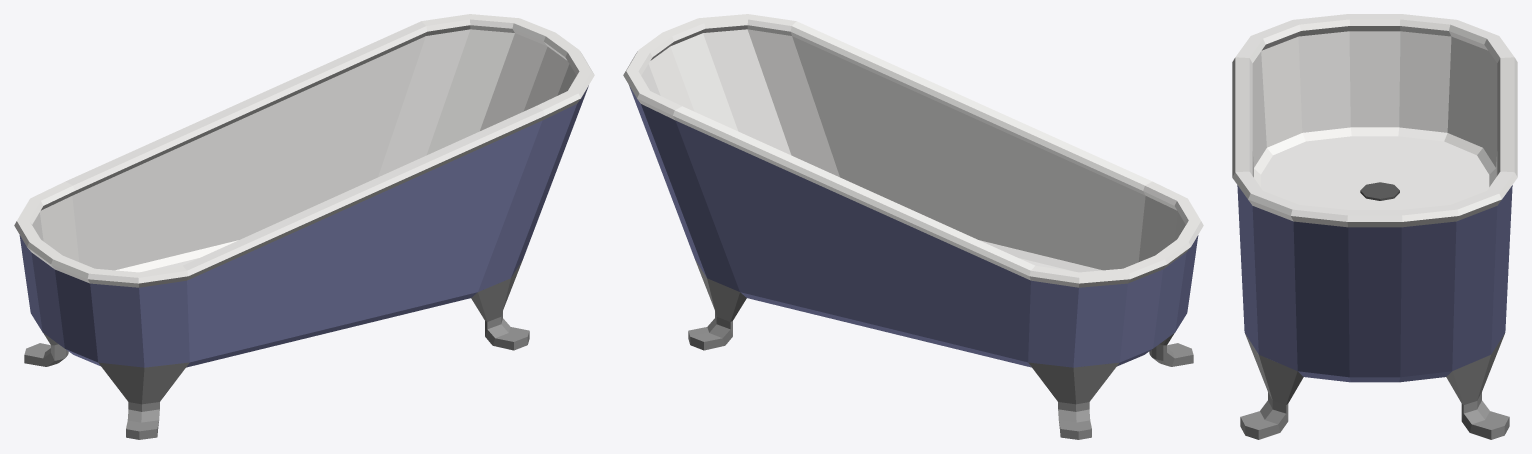
File: Bath_5.fbx
The picture shows the model from 3 angles, left to right: view 1: azimuth 30°, elevation 25°; view 2: azimuth 150°, elevation 25°; view 3: azimuth 270°, elevation 25°; orthographic projection. The views are drawn at different scales.
Parts seen in each view (by area): view 1: Bath_5; view 2: Bath_5; view 3: Bath_5.
Boxes of the visible parts, left/top/right/bottom form: Bath_5: left=14, top=14, right=594, bottom=439; Bath_5: left=623, top=14, right=1203, bottom=439; Bath_5: left=1232, top=14, right=1517, bottom=439.
Bounding box in the file's own units: 339 × 138 × 146.
